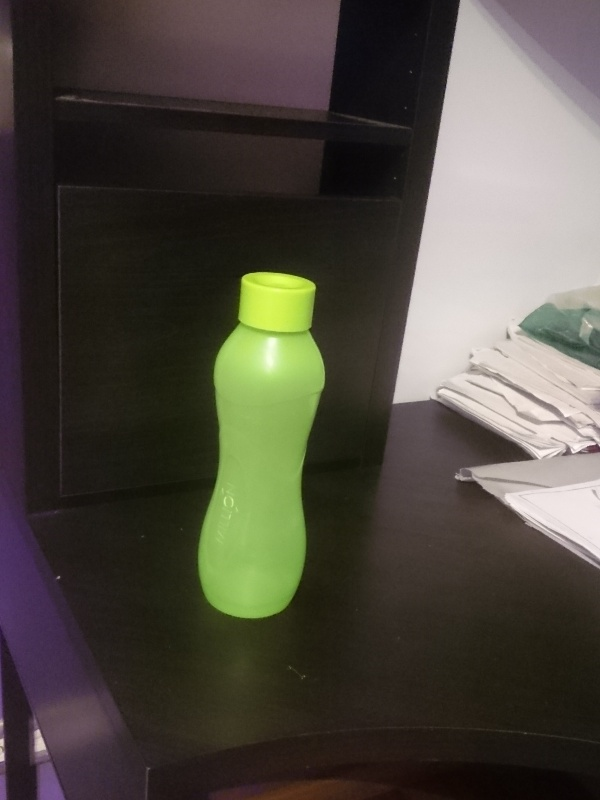my bottle: (194, 272, 323, 620)
